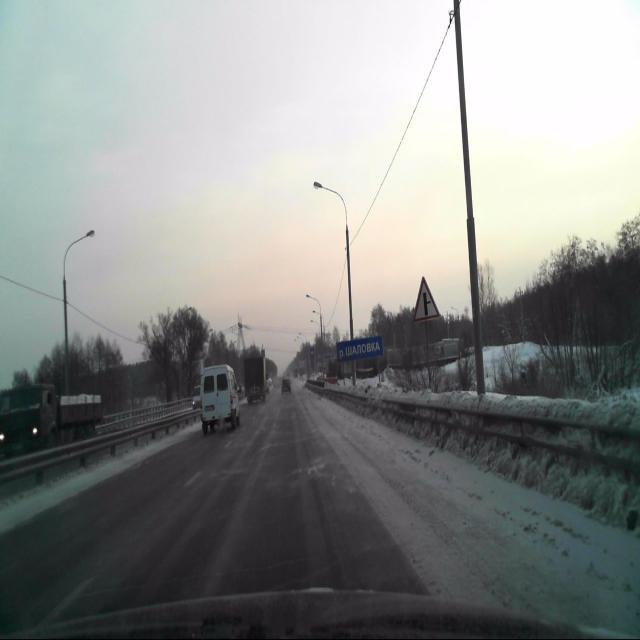road sign: (412, 274, 440, 324)
